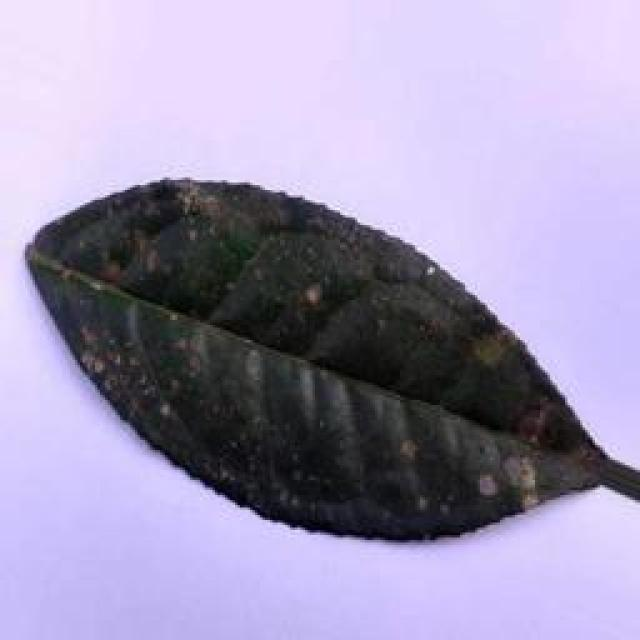Algal Leaf Spot: (22, 174, 596, 532)
